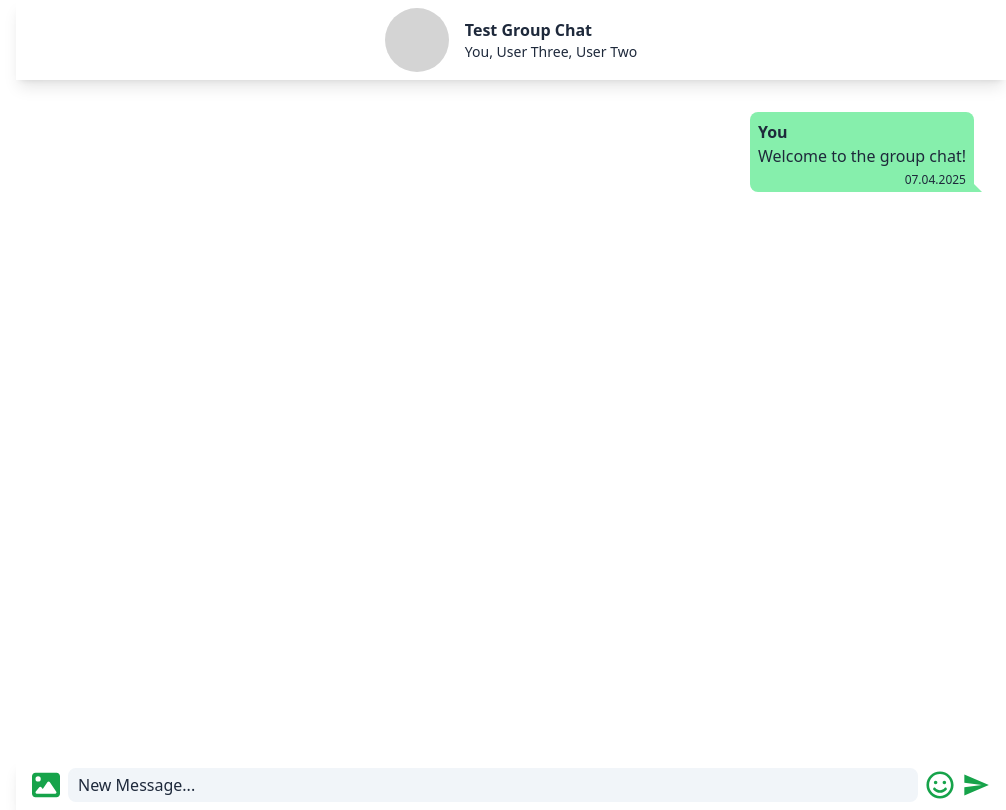
Test: <Chat /> › displays group chat info modal on button click
Expected: the element with test id "chat-header" is shown, [16, 0, 1005, 80]
Click the button with test id "chat-info-button": coordinates (511, 40) [385, 8, 637, 72]
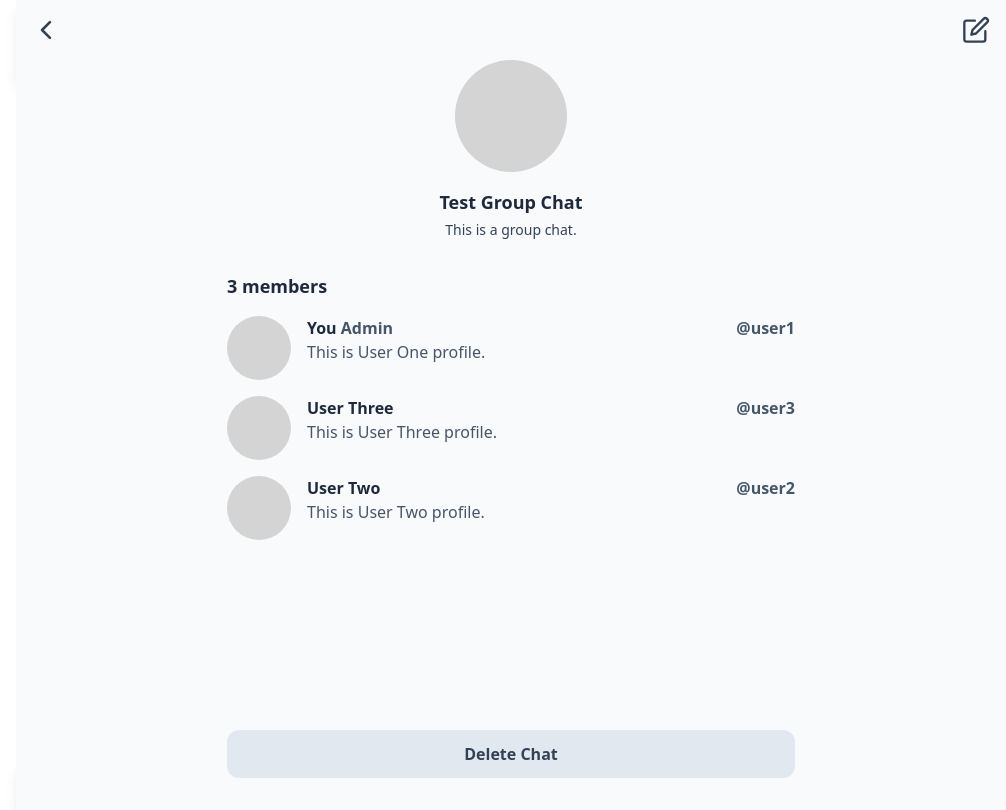
Now the element with test id "group-chat-info-modal" is shown
